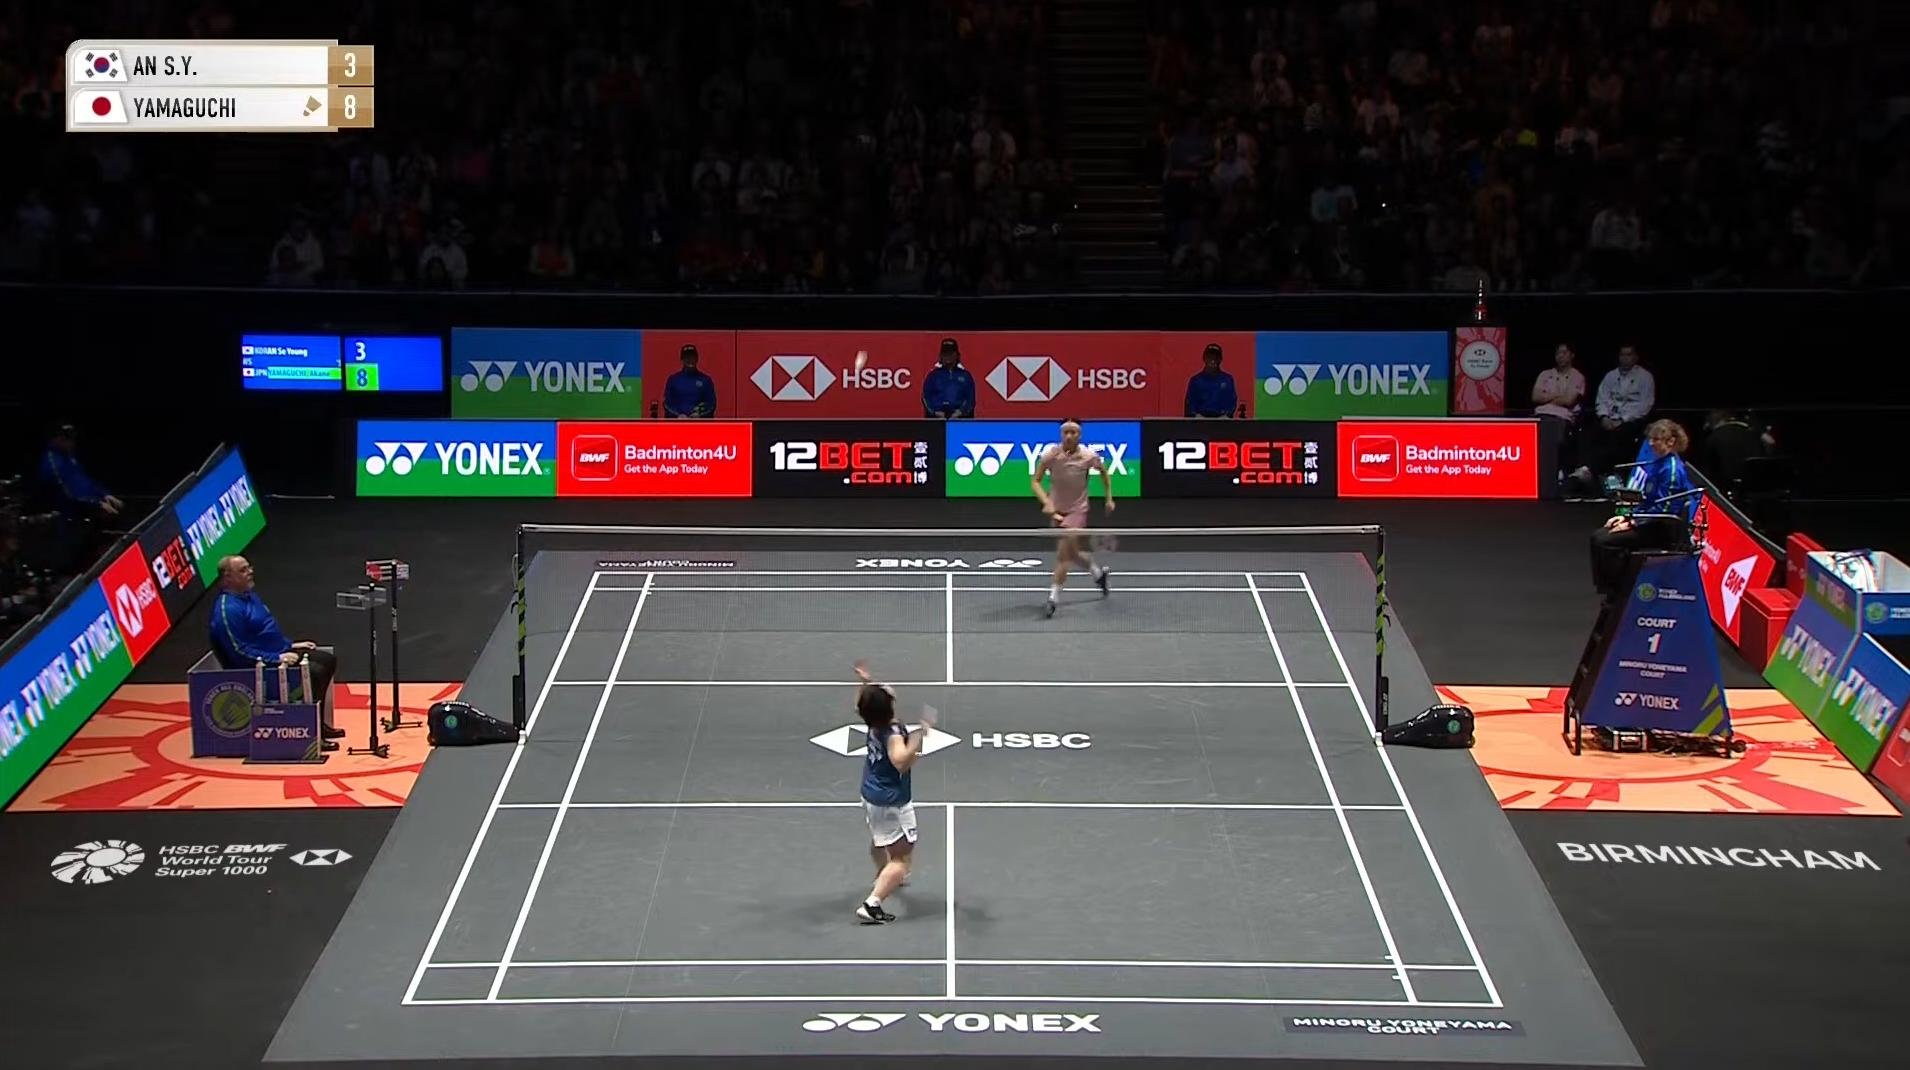shuttle: (847, 345, 870, 376)
